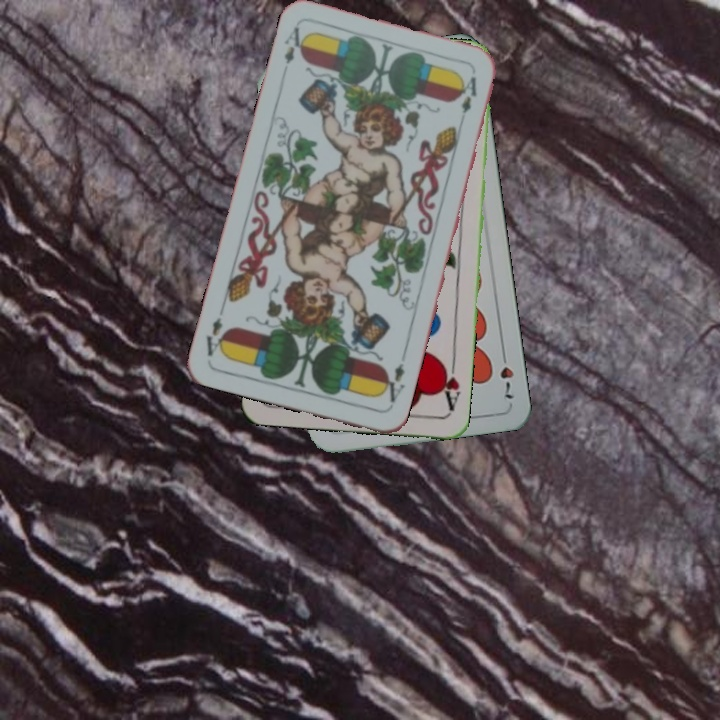EA: (377, 359, 408, 410), (280, 23, 310, 67)
H7: (496, 345, 517, 401)
HA: (436, 355, 463, 414)
